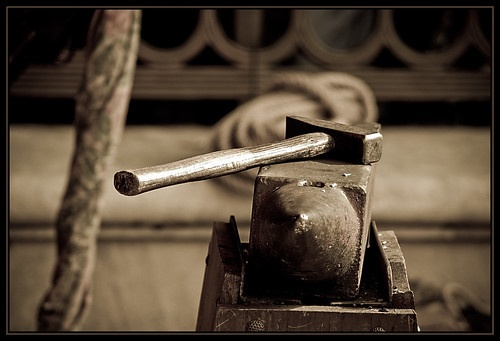hammer: (112, 111, 385, 197)
